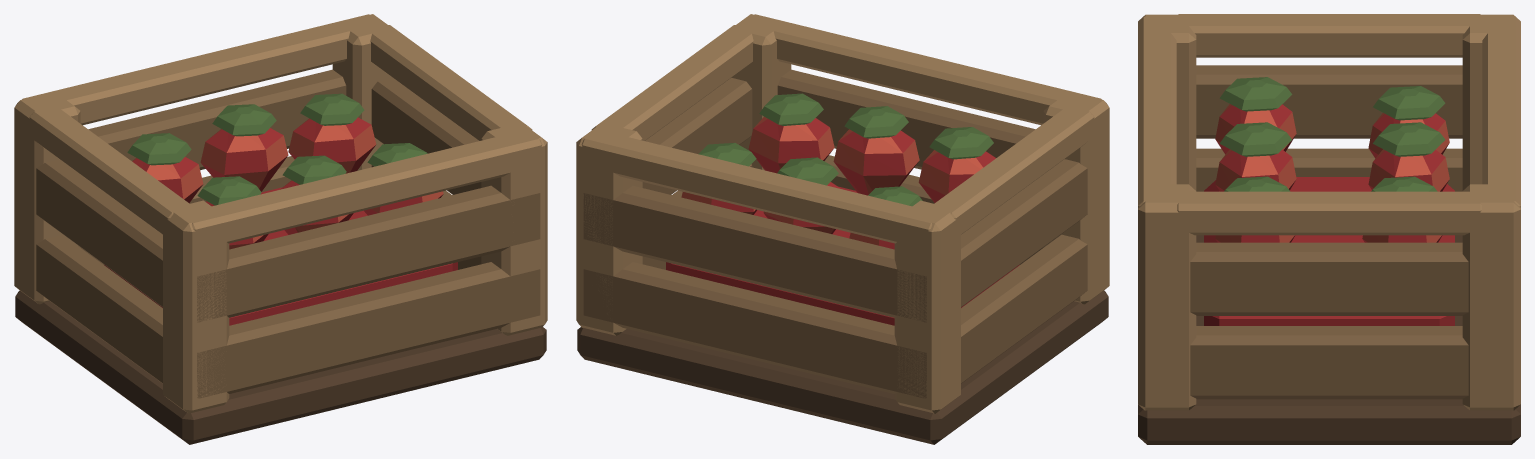
Rendered from wild_strawberry_half.glb.
3 renders of one model, left to right at view 1: azimuth 30°, elevation 25°; view 2: azimuth 150°, elevation 25°; view 3: azimuth 270°, elevation 25°, orthographic. The views are drawn at different scales.
Parts seen in each view (by area): view 1: wild_strawberry_half; view 2: wild_strawberry_half; view 3: wild_strawberry_half.
Part boxes in pixels (x1=…): wild_strawberry_half: x1=14, y1=14, x2=547, y2=444; wild_strawberry_half: x1=576, y1=14, x2=1109, y2=444; wild_strawberry_half: x1=1138, y1=14, x2=1520, y2=444.
Size of the model in its own units: 0.75 by 0.4375 by 0.625.
